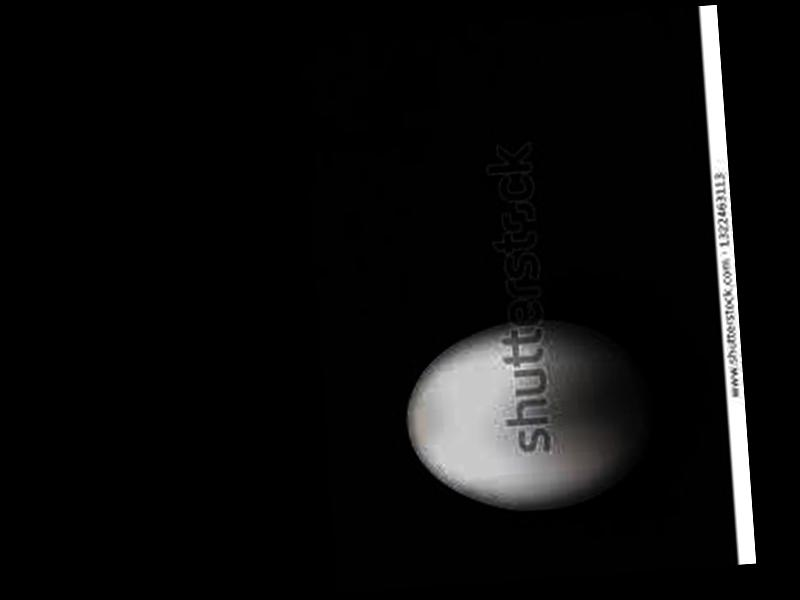Eggs: (397, 316, 659, 521)
